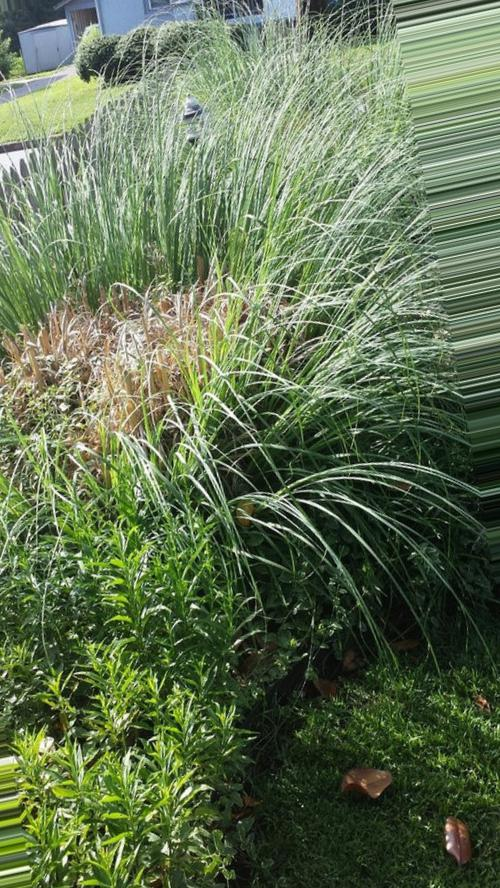patch: (21, 331, 165, 400), (82, 318, 204, 359)
